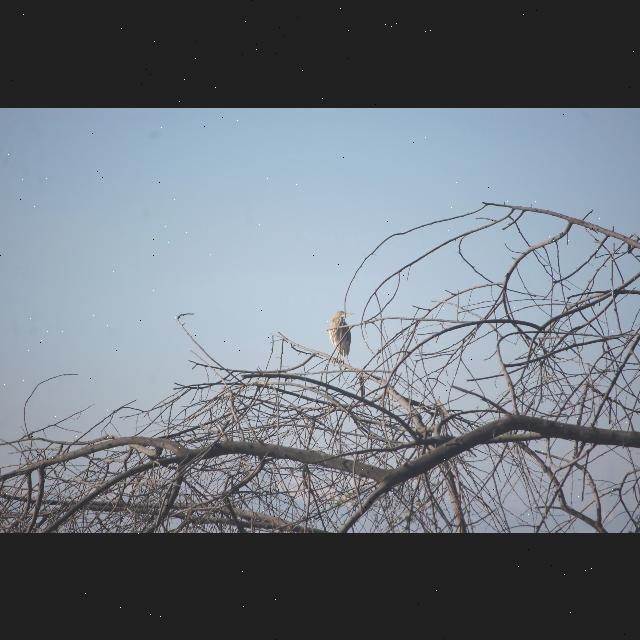heron: (326, 308, 360, 362)
